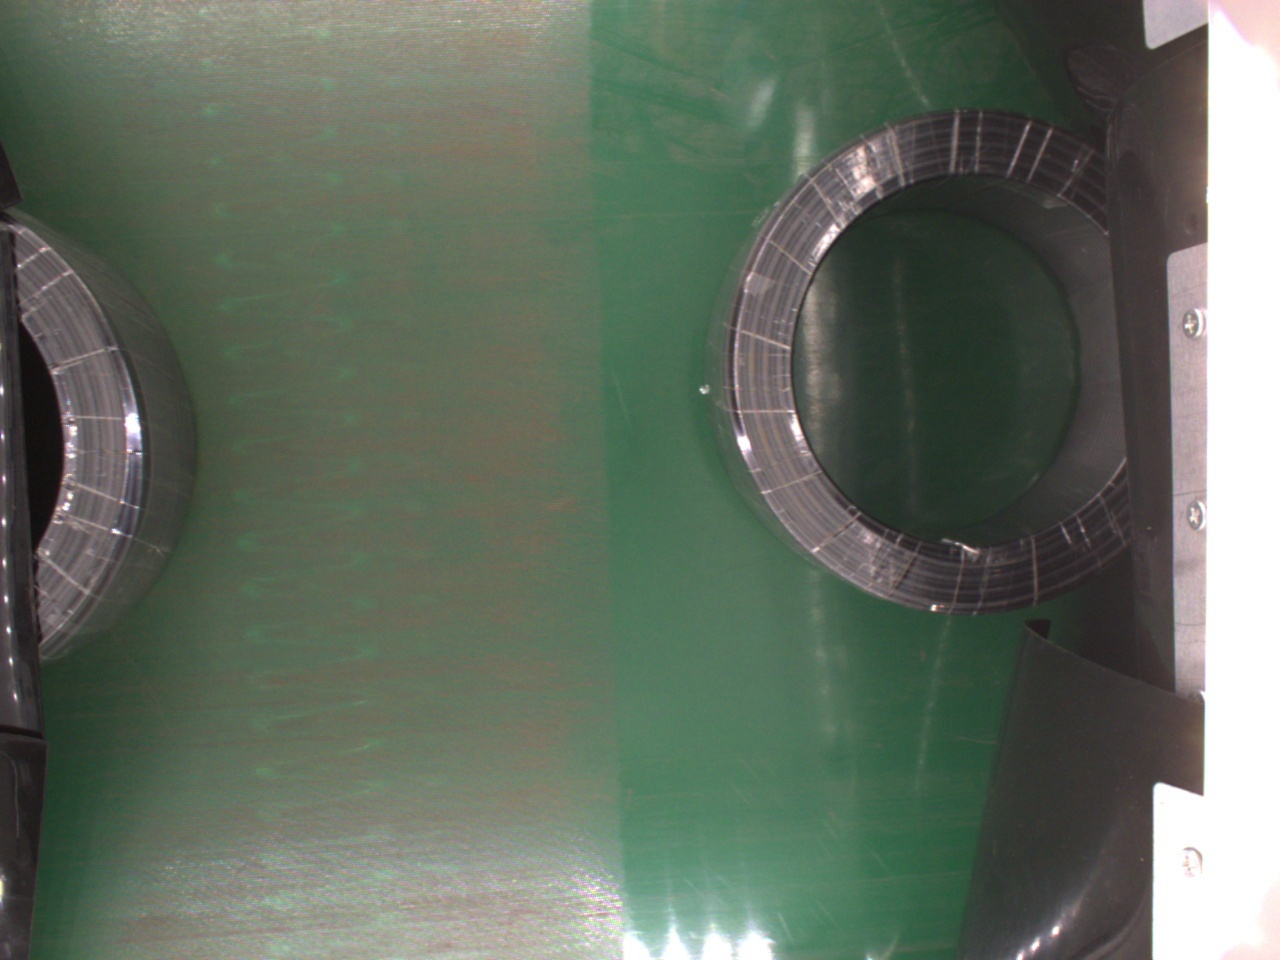black: (708, 107, 1144, 616), (9, 213, 191, 656)
